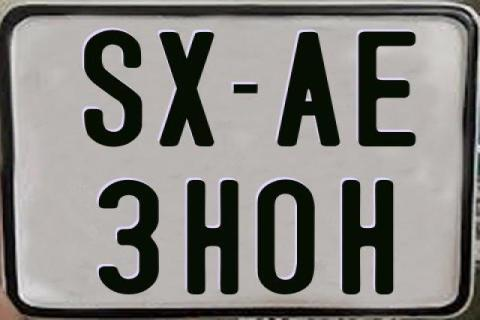0: (97, 180, 162, 298), (254, 177, 315, 295)
A: (276, 32, 344, 149)
E: (356, 30, 420, 148)
H: (342, 178, 399, 294), (186, 179, 242, 295)
S: (82, 27, 142, 148)
X: (158, 30, 218, 148)
